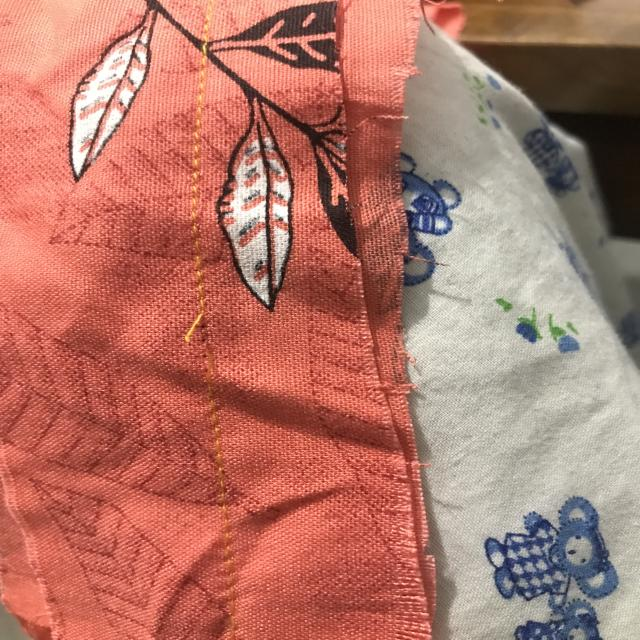broken: (162, 306, 243, 410)
good: (183, 154, 216, 258)
